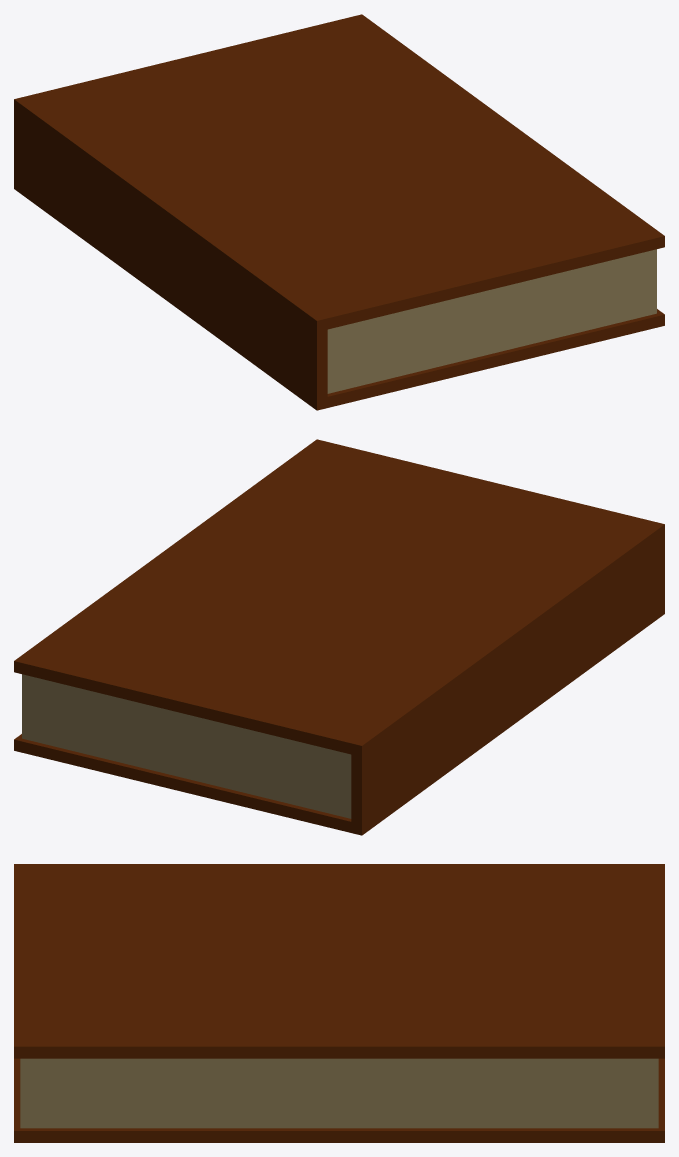
Rendered from Book.fbx.
3 renders of one model, top to bottom at view 1: azimuth 30°, elevation 25°; view 2: azimuth 150°, elevation 25°; view 3: azimuth 270°, elevation 25°, orthographic. The views are drawn at different scales.
Parts seen in each view (by area): view 1: Cube; view 2: Cube; view 3: Cube.
Boxes of the visible parts, x1=… form: Cube: x1=14, y1=14, x2=664, y2=410; Cube: x1=14, y1=439, x2=664, y2=835; Cube: x1=14, y1=864, x2=664, y2=1142.
Size of the model in its own units: 203 by 50 by 306.
